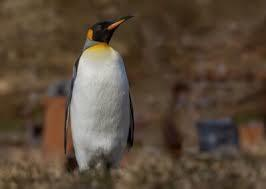king: (49, 5, 146, 164)
